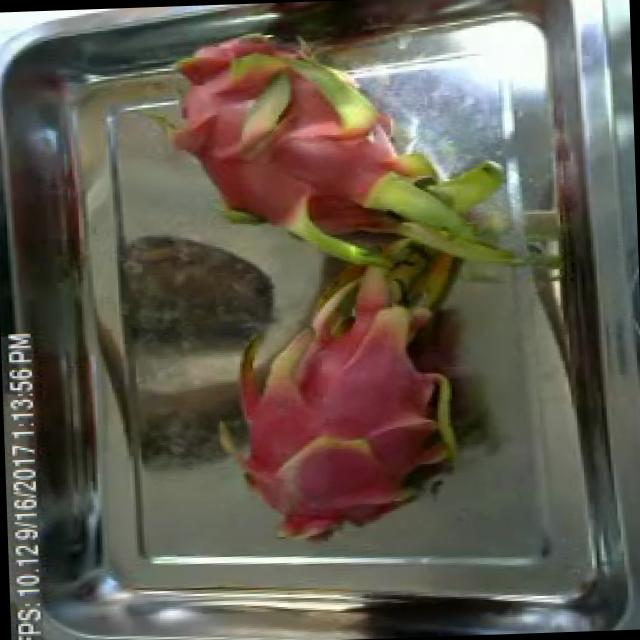Fruit: (94, 221, 288, 360)
